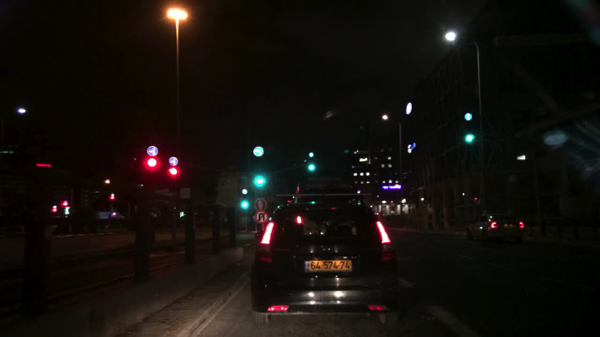car: (252, 194, 400, 324), (467, 215, 525, 244)
traffic light: (169, 167, 180, 195), (145, 156, 157, 178), (464, 123, 475, 145), (254, 164, 264, 186), (308, 159, 317, 173), (240, 200, 250, 209), (62, 201, 68, 207), (51, 208, 58, 213), (110, 196, 116, 201)
traffic sign: (254, 199, 267, 212), (256, 211, 268, 225), (151, 207, 161, 222), (462, 110, 472, 122), (254, 147, 264, 158), (147, 146, 158, 155), (169, 157, 179, 166), (307, 152, 315, 158)
